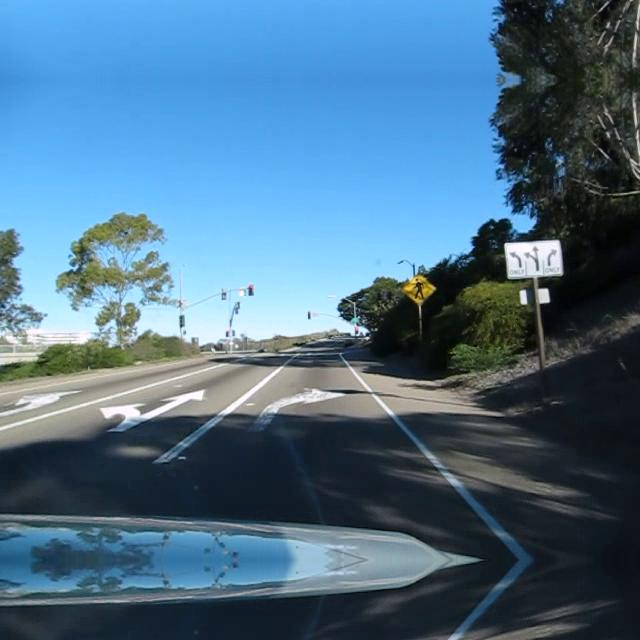pedestrianCrossing: (400, 272, 436, 304)
